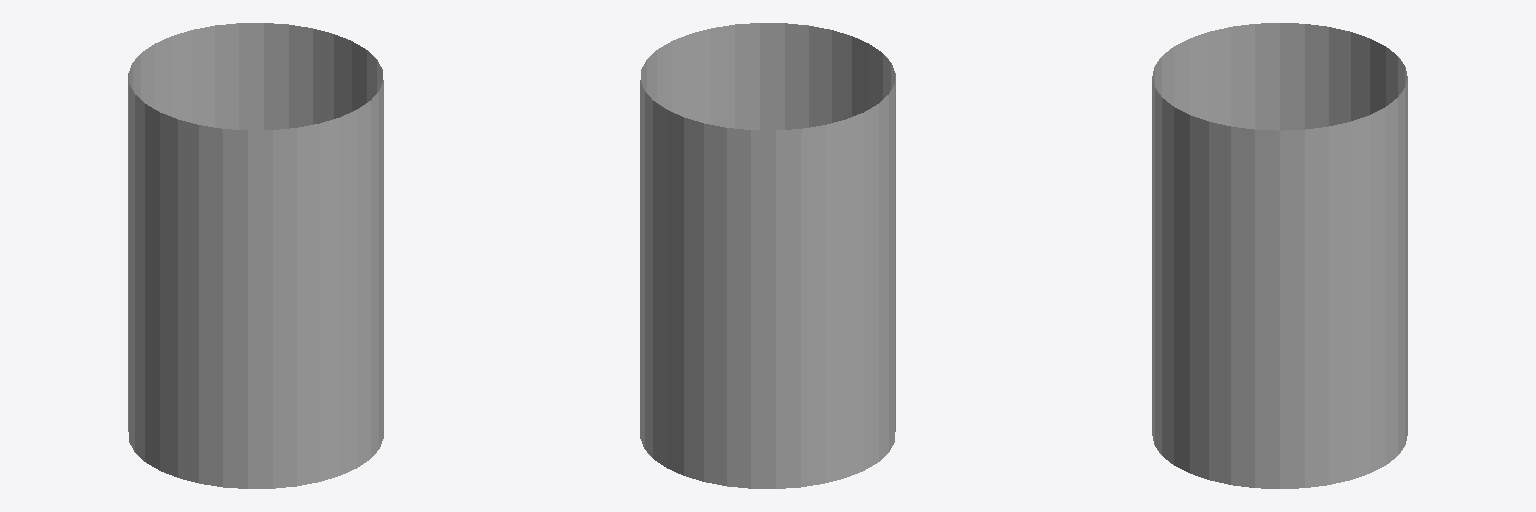
The model's file is vfx_pillar.obj.
The picture shows the model from 3 angles: view 1: azimuth 30°, elevation 25°; view 2: azimuth 150°, elevation 25°; view 3: azimuth 270°, elevation 25°; orthographic projection.
Parts seen in each view (by area): view 1: Cylinder; view 2: Cylinder; view 3: Cylinder.
Boxes of the visible parts, x1=… form: Cylinder: x1=128, y1=23, x2=383, y2=488; Cylinder: x1=640, y1=23, x2=895, y2=488; Cylinder: x1=1152, y1=23, x2=1407, y2=488.
Size of the model in its own units: 2 by 3.1 by 2.